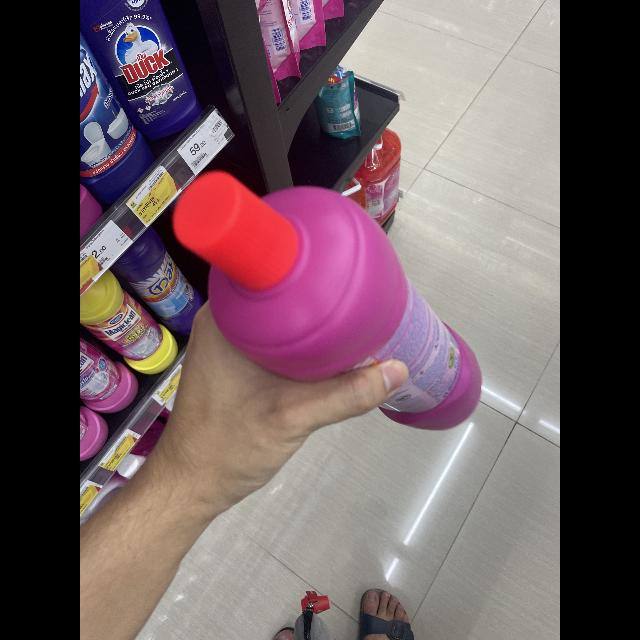chemical_plastic_bottle: (160, 171, 494, 439)
